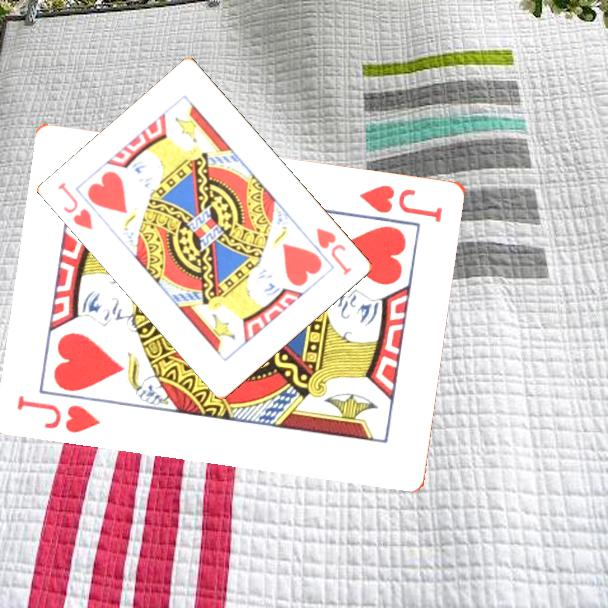h11: (14, 391, 104, 436), (356, 181, 446, 225), (313, 224, 355, 278), (54, 179, 96, 233)
